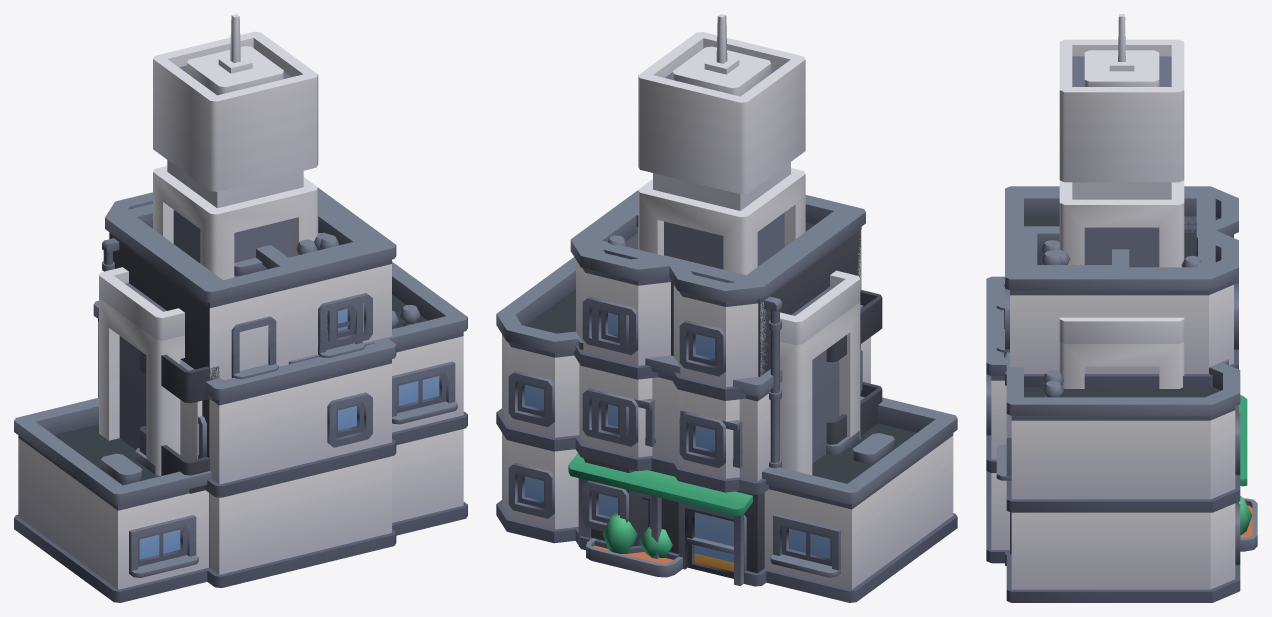
The model's file is buildings.glb.
3 views of the same model, side by side, from view 1: azimuth 30°, elevation 25°; view 2: azimuth 150°, elevation 25°; view 3: azimuth 270°, elevation 25° (orthographic).
Parts seen in each view (by area): view 1: building-e, building-c, low-detail-building-a, building-a, building-b, low-detail-building-wide-a, building-h, building-d, low-detail-building-b; view 2: building-e, low-detail-building-a, building-a, building-b, building-h, building-d, low-detail-building-wide-a, building-c, low-detail-building-b; view 3: building-e, low-detail-building-a, building-b, low-detail-building-wide-a, building-c, building-a, building-h, building-d, low-detail-building-b.
Boxes of the visible parts, x1,y1,x2,y2 form: building-e: (14, 261, 467, 602); building-c: (180, 337, 396, 587); low-detail-building-a: (153, 31, 318, 280); building-a: (103, 192, 386, 567); building-b: (117, 188, 396, 530); low-detail-building-wide-a: (99, 267, 184, 475); building-h: (102, 203, 385, 457); building-d: (93, 212, 374, 461); low-detail-building-b: (218, 14, 252, 73); building-e: (496, 257, 957, 602); low-detail-building-a: (638, 32, 805, 275); building-a: (580, 195, 865, 492); building-b: (570, 190, 882, 553); building-h: (568, 195, 865, 586); building-d: (578, 214, 861, 586); low-detail-building-wide-a: (780, 270, 860, 474); building-c: (586, 304, 870, 577); low-detail-building-b: (704, 14, 739, 74); building-e: (996, 352, 1240, 602); low-detail-building-a: (1059, 39, 1184, 267); building-b: (1005, 193, 1238, 565); low-detail-building-wide-a: (1059, 317, 1184, 388); building-c: (986, 276, 1257, 563); building-a: (1005, 186, 1238, 357); building-h: (996, 186, 1247, 486); building-d: (1020, 226, 1228, 364); low-detail-building-b: (1109, 14, 1134, 71).
Bounding box in the file's own units: 1.64 × 2.23 × 1.09.
Materials: 1 (1 with a texture image).
